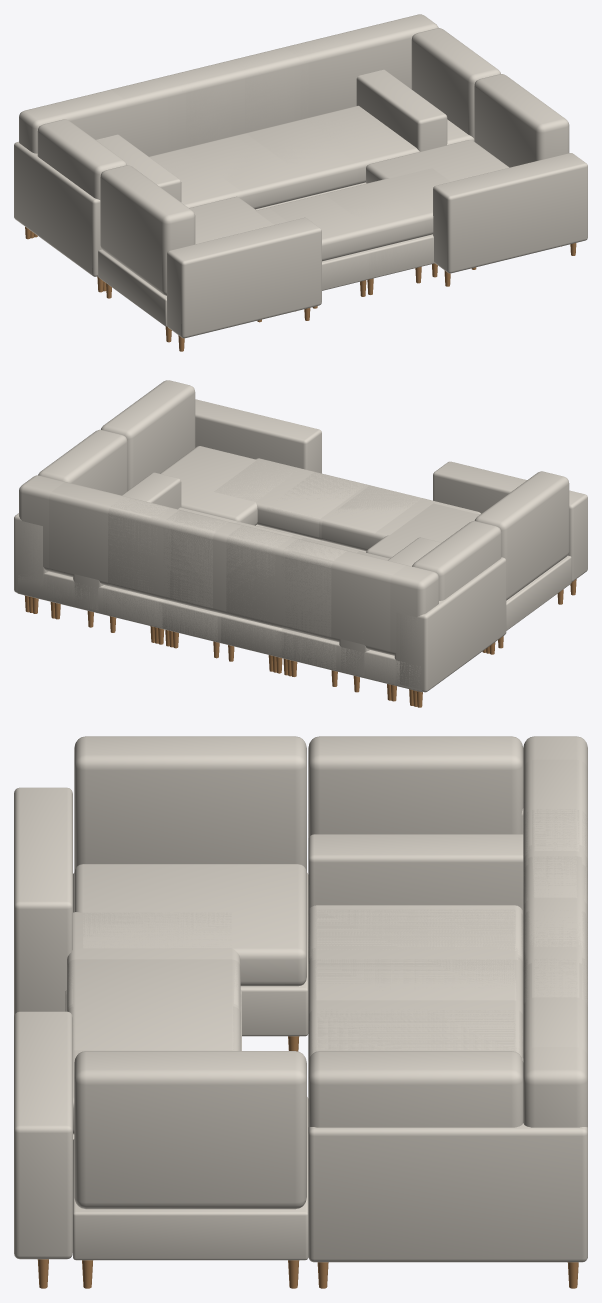
The model's file is sofa.glb.
3 views of the same model, one above another, from view 1: azimuth 30°, elevation 25°; view 2: azimuth 150°, elevation 25°; view 3: azimuth 270°, elevation 25° (orthographic). The views are drawn at different scales.
Visible parts, largest first — view 1: arm.006, arm.008, corner_back.002, corner_back.001, back.008, arm.003, back.011, back.004, seat_cushion.002, ottoman_cushion.001, back.001, back.002 (+22 smaller); view 2: back.001, back.002, arm.003, back.003, back.008, corner_back.001, back.005, ottoman_cushion.003, back.011, corner_back.002, arm.008, back.006 (+24 smaller); view 3: arm.004, back.011, back.008, corner_back.001, corner_back.002, seat_cushion.008, seat_cushion.001, arm.001, ottoman_cushion.001, seat_cushion.004, arm.008, arm.006 (+14 smaller).
Part boxes in pixels (x1=…): arm.006: x1=167, y1=217, x2=321, y2=338; arm.008: x1=433, y1=153, x2=587, y2=273; corner_back.002: x1=292, y1=14, x2=500, y2=138; corner_back.001: x1=19, y1=79, x2=168, y2=199; back.008: x1=100, y1=165, x2=195, y2=295; arm.003: x1=14, y1=141, x2=101, y2=276; back.011: x1=474, y1=74, x2=569, y2=167; back.004: x1=179, y1=50, x2=290, y2=146; seat_cushion.002: x1=245, y1=107, x2=411, y2=196; ottoman_cushion.001: x1=268, y1=181, x2=424, y2=261; back.001: x1=111, y1=64, x2=231, y2=151; back.002: x1=229, y1=35, x2=349, y2=132; back.001: x1=226, y1=525, x2=346, y2=640; back.002: x1=108, y1=498, x2=228, y2=611; arm.003: x1=400, y1=557, x2=506, y2=692; back.003: x1=285, y1=540, x2=405, y2=654; back.008: x1=474, y1=471, x2=569, y2=600; corner_back.001: x1=292, y1=521, x2=501, y2=655; back.005: x1=49, y1=482, x2=168, y2=595; ottoman_cushion.003: x1=214, y1=458, x2=365, y2=538; back.011: x1=100, y1=380, x2=195, y2=490; corner_back.002: x1=19, y1=429, x2=165, y2=593; arm.008: x1=195, y1=399, x2=321, y2=473; back.006: x1=171, y1=512, x2=291, y2=625; arm.004: x1=308, y1=1123, x2=587, y2=1262; back.011: x1=74, y1=1051, x2=306, y2=1209; back.008: x1=74, y1=736, x2=306, y2=872; corner_back.001: x1=308, y1=736, x2=587, y2=853; corner_back.002: x1=308, y1=963, x2=587, y2=1127; seat_cushion.008: x1=74, y1=864, x2=306, y2=986; seat_cushion.001: x1=308, y1=909, x2=523, y2=1000; arm.001: x1=308, y1=834, x2=523, y2=912; ottoman_cushion.001: x1=67, y1=959, x2=240, y2=1050; seat_cushion.004: x1=308, y1=959, x2=523, y2=1055; arm.008: x1=14, y1=1011, x2=72, y2=1259; arm.006: x1=14, y1=787, x2=72, y2=1016.
Bounding box in the file's own units: 2.8 × 0.82 × 1.95.
